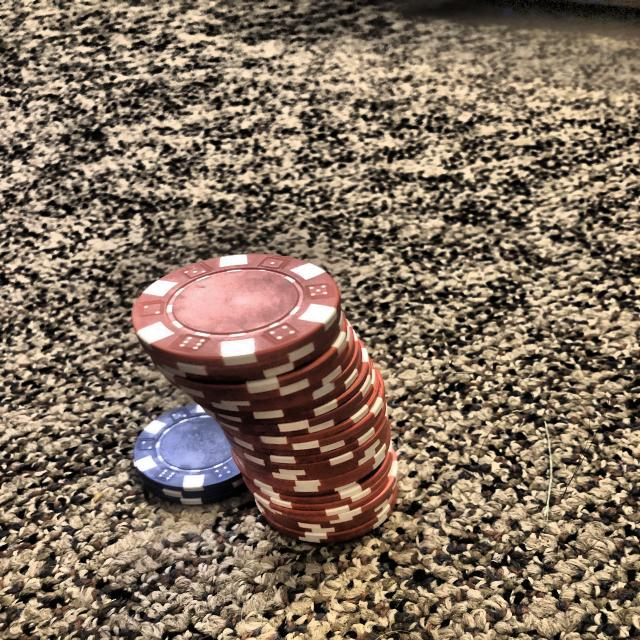Chip: (131, 252, 402, 546), (131, 401, 264, 504)
